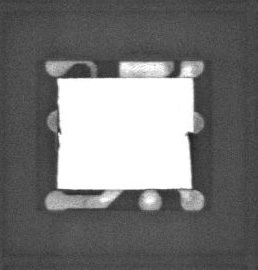DIE_BROKEN: (183, 128, 194, 190), (56, 79, 63, 151)
